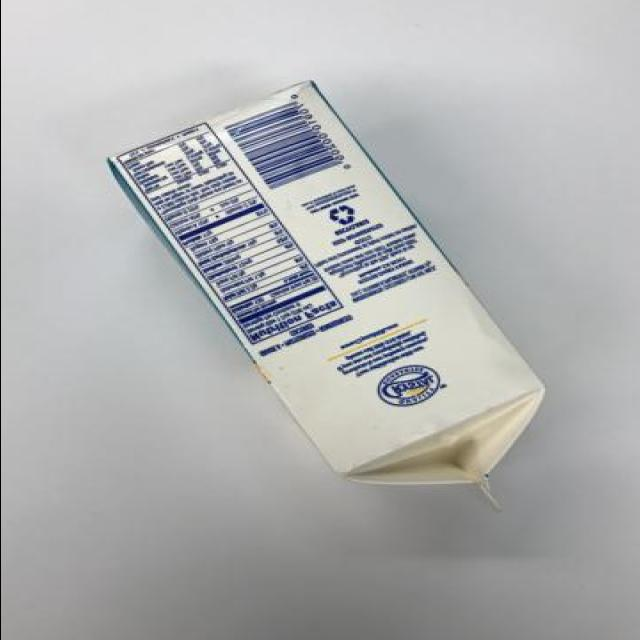kertas: (105, 80, 545, 513)
